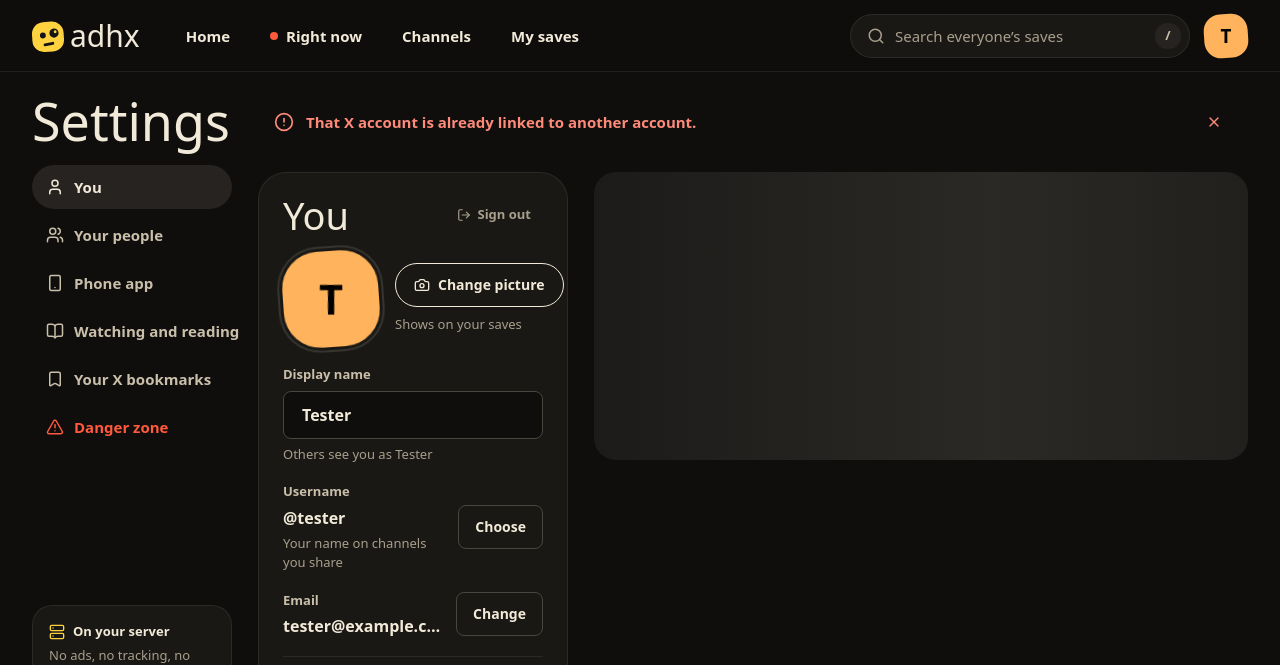
Test: SettingsClient — account › shows what the address reports, and lets it be dismissed
The width and height of the screenshot is (1280, 665).
Expected: the text "That X account is already linked to another account." is shown, [306, 112, 696, 132]
Step 1. Click the button named "Dismiss" → (1214, 122), box [1196, 104, 1232, 140]
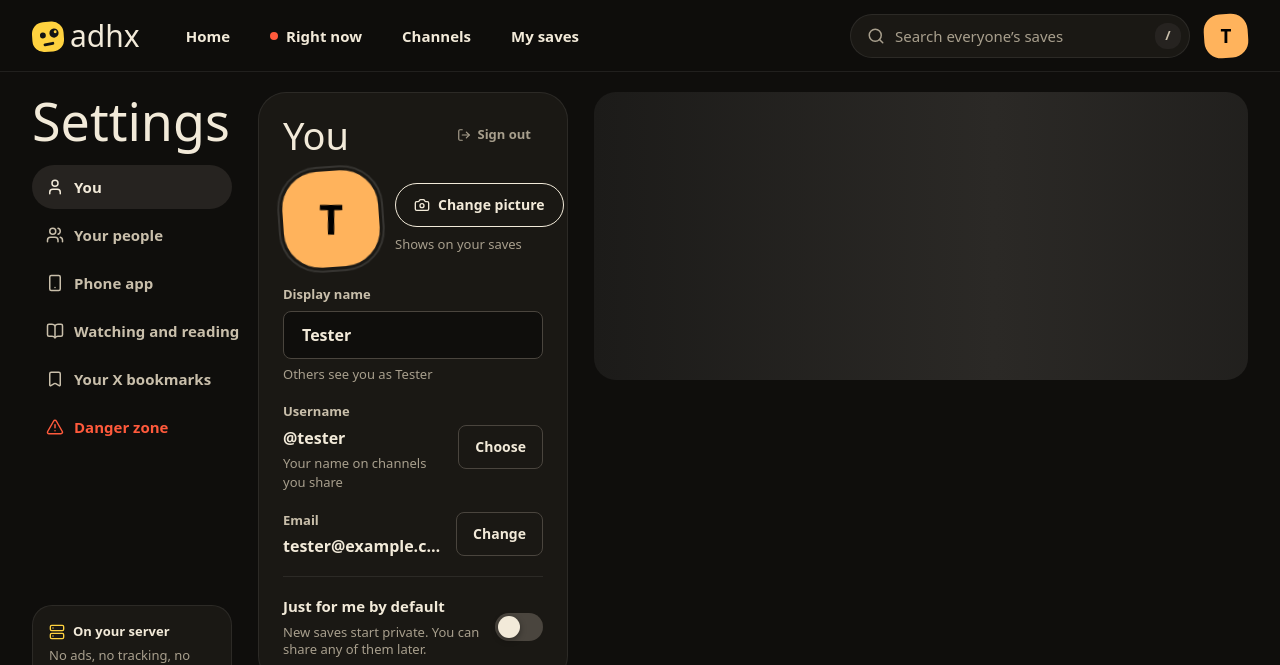
Expected: the text "That X account is already linked to another account." is gone
